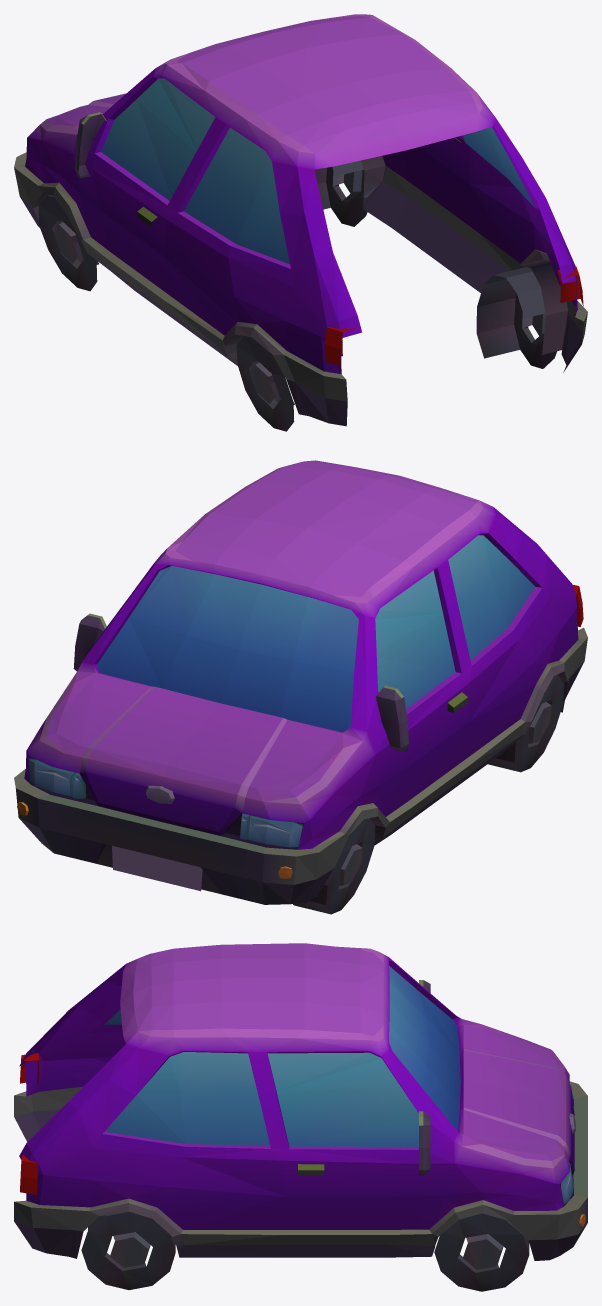
The model's file is City_Single2_car01.fbx.
The picture shows the model from 3 angles, top to bottom: view 1: azimuth 30°, elevation 25°; view 2: azimuth 150°, elevation 25°; view 3: azimuth 270°, elevation 25°; orthographic projection. The views are drawn at different scales.
Visible parts, largest first — view 1: Cube; view 2: Cube; view 3: Cube.
Part boxes in pixels (bbox=[...]): Cube: bbox=[14, 14, 587, 431]; Cube: bbox=[14, 460, 587, 914]; Cube: bbox=[14, 943, 587, 1291].
Size of the model in its own units: 109 by 87.64 by 179.
